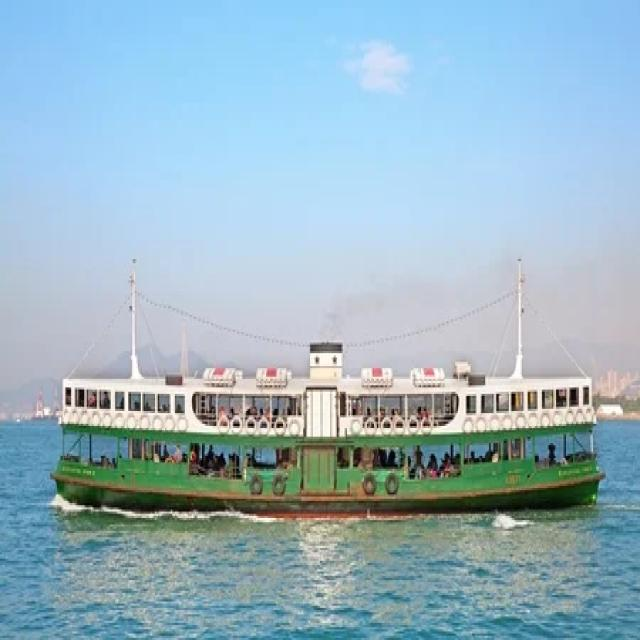passenger ship: (52, 293, 590, 511)
